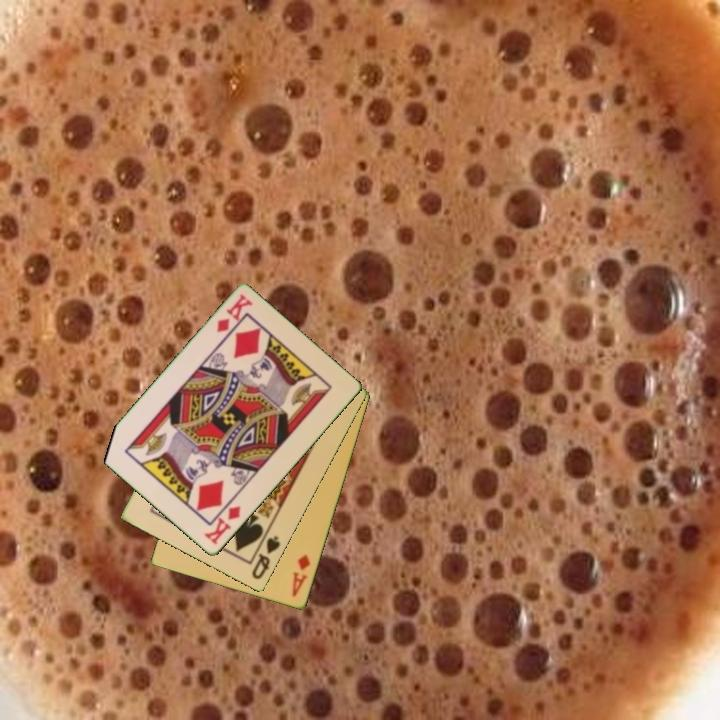Ad: (289, 551, 313, 600)
Kd: (201, 502, 244, 548), (213, 291, 256, 336)
Qs: (248, 532, 283, 583)
